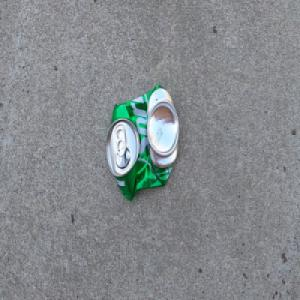SodaCan: (103, 82, 179, 202)
